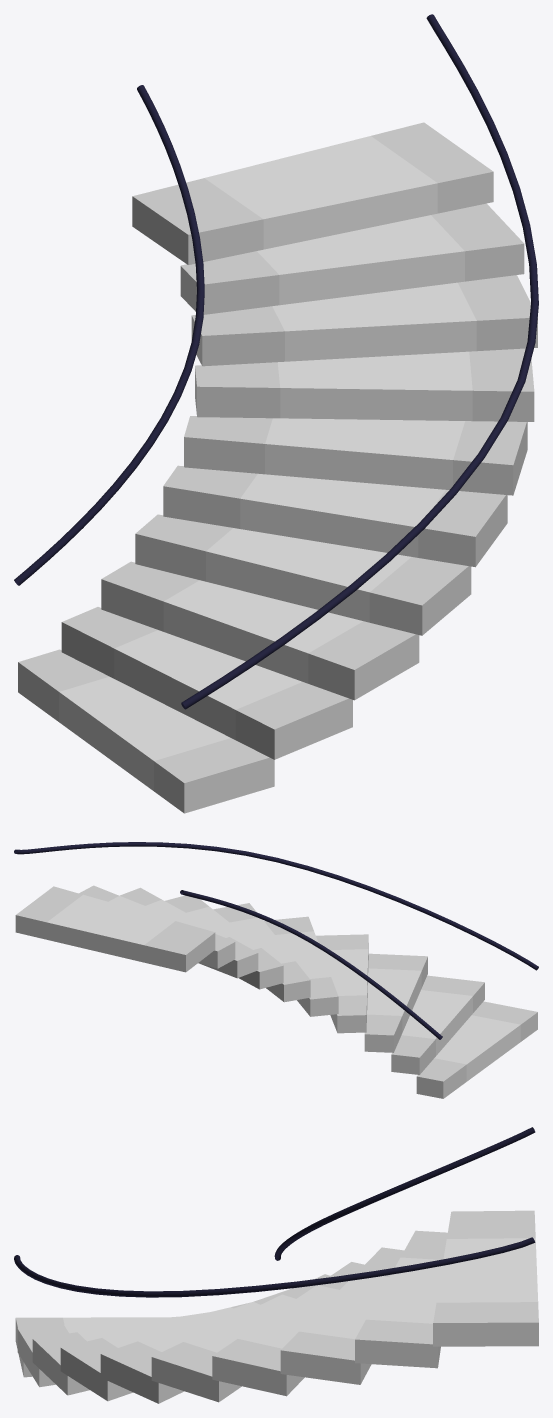
Rendered from Updated_Curved_Stairs_R.fbx.
3 renders of one model, top to bottom at view 1: azimuth 30°, elevation 25°; view 2: azimuth 150°, elevation 25°; view 3: azimuth 270°, elevation 25°, orthographic. The views are drawn at different scales.
Visible parts, largest first — view 1: Circle.005, BézierCurve.008, BézierCurve.009; view 2: Circle.005, BézierCurve.008, BézierCurve.009; view 3: Circle.005, BézierCurve.008, BézierCurve.009.
Part boxes in pixels (box(x1,y1,x2,y2)): Circle.005: box(18, 122, 537, 813); BézierCurve.008: box(181, 14, 538, 709); BézierCurve.009: box(14, 85, 204, 585); Circle.005: box(15, 885, 537, 1098); BézierCurve.008: box(14, 842, 538, 970); BézierCurve.009: box(180, 890, 442, 1039); Circle.005: box(15, 1210, 538, 1403); BézierCurve.008: box(14, 1237, 535, 1297); BézierCurve.009: box(274, 1127, 535, 1260).
Bounding box in the file's own units: 502 × 342 × 503.
